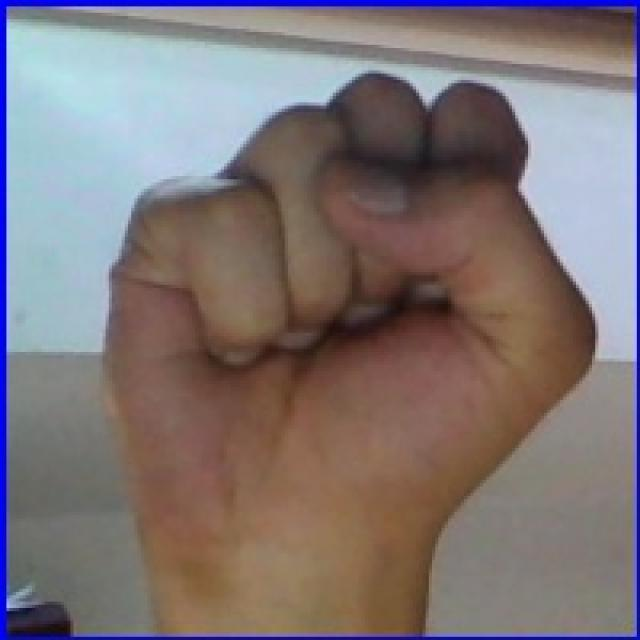Letra-S: (62, 64, 618, 529)
